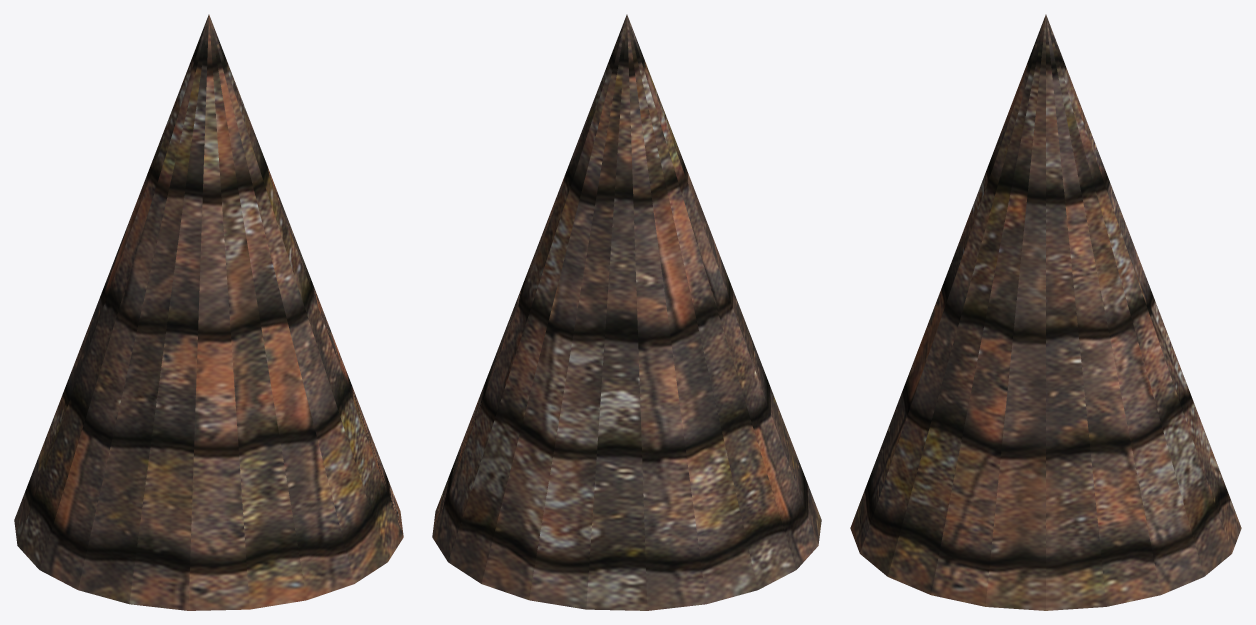
The model's file is turmhelm_spitz_4m.glb.
3 views of the same model, side by side, from view 1: azimuth 30°, elevation 25°; view 2: azimuth 150°, elevation 25°; view 3: azimuth 270°, elevation 25° (orthographic).
Parts seen in each view (by area): view 1: spire_roof; view 2: spire_roof; view 3: spire_roof.
Boxes of the visible parts, x1,y1,x2,y2 form: spire_roof: [14, 14, 403, 610]; spire_roof: [432, 14, 821, 610]; spire_roof: [850, 14, 1241, 610].
Bounding box in the file's own units: 4 × 5.8 × 4.
Materials: 1 (1 with a texture image).
